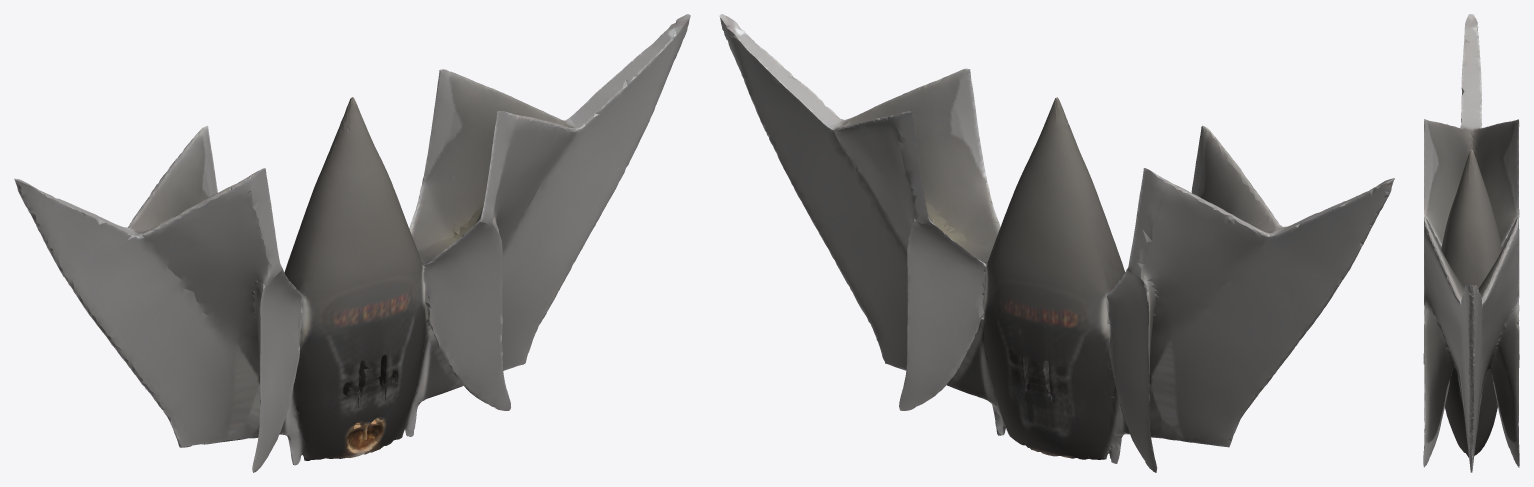
File: falcon_wing_L.glb
The picture shows the model from 3 angles, left to right: view 1: azimuth 30°, elevation 25°; view 2: azimuth 150°, elevation 25°; view 3: azimuth 270°, elevation 25°; orthographic projection. The views are drawn at different scales.
Visible parts, largest first — view 1: falcon_wing_L; view 2: falcon_wing_L; view 3: falcon_wing_L.
Boxes of the visible parts, <box> form: falcon_wing_L: <box>14,14,690,472</box>; falcon_wing_L: <box>719,14,1394,472</box>; falcon_wing_L: <box>1423,14,1519,472</box>.
Bounding box in the file's own units: 1.89 × 0.9484 × 0.284.
1 material, 1 textured.
